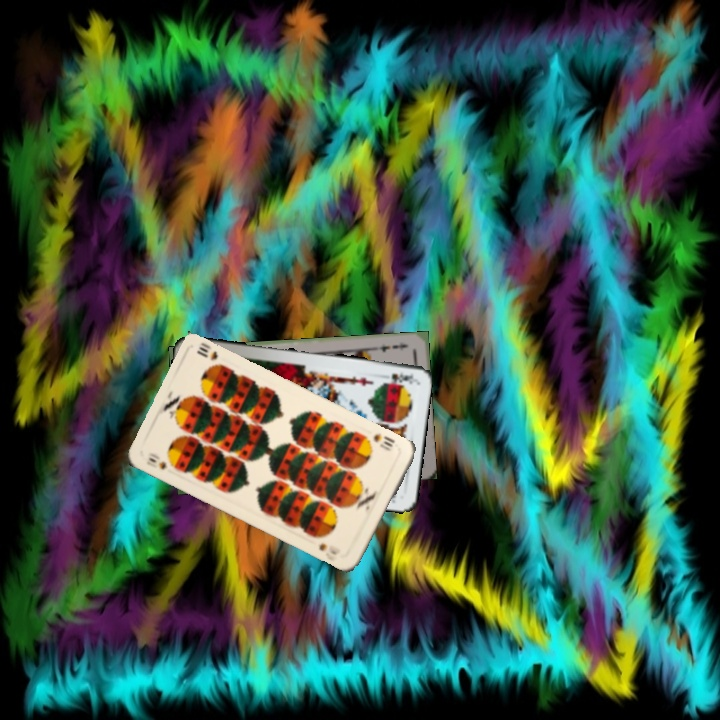E7: (372, 340, 411, 355)
S10: (369, 429, 397, 454), (142, 453, 169, 472)
SK: (388, 369, 416, 387)
